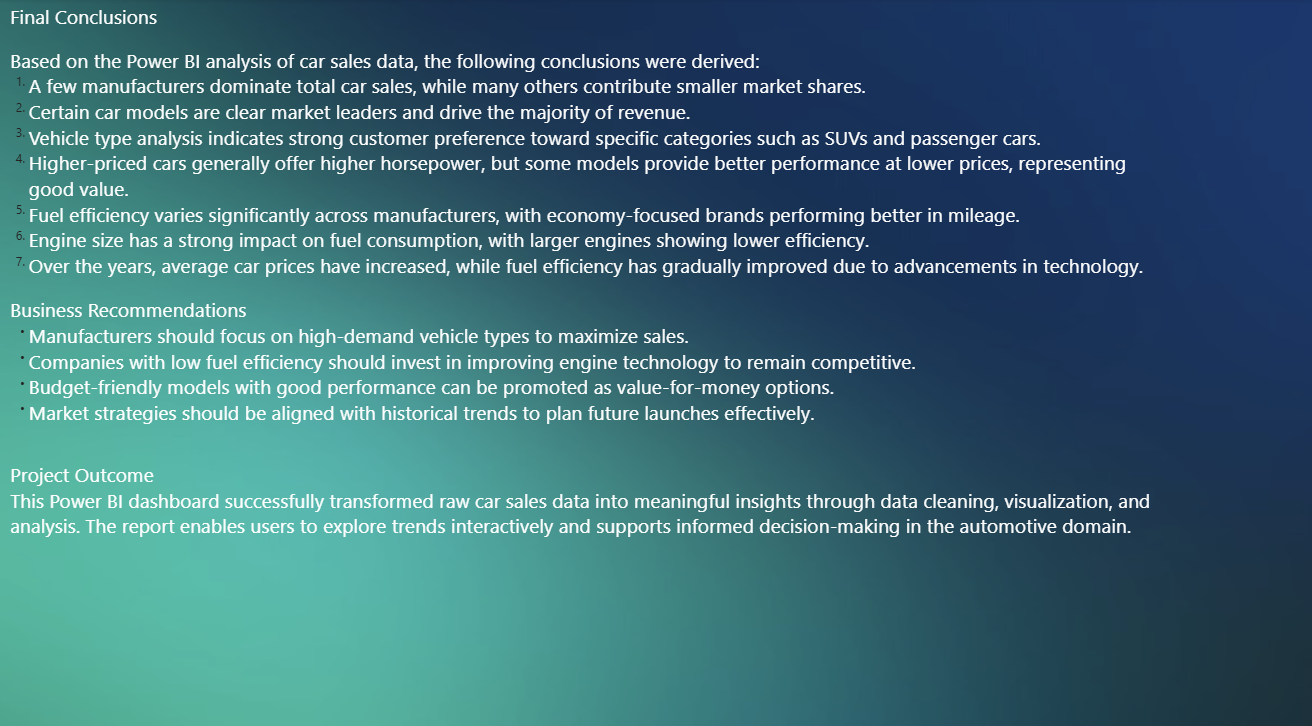

The page's visual inventory and layout, read from the dashboard file:
{"tool":"powerbi","page":{"name":"Page 5","canvas":[1280,720],"ordinal":4},"visuals":[{"type":"textbox","box":[10.1,0,1115.3,584.3],"z":0}]}

Visuals, with their boxes in screenshot pixels (x1, y1, x2, y2), scaled from the page's 1280x720 canvas onto the 1312x726 screenshot:
textbox: box=[10, 0, 1154, 589]
